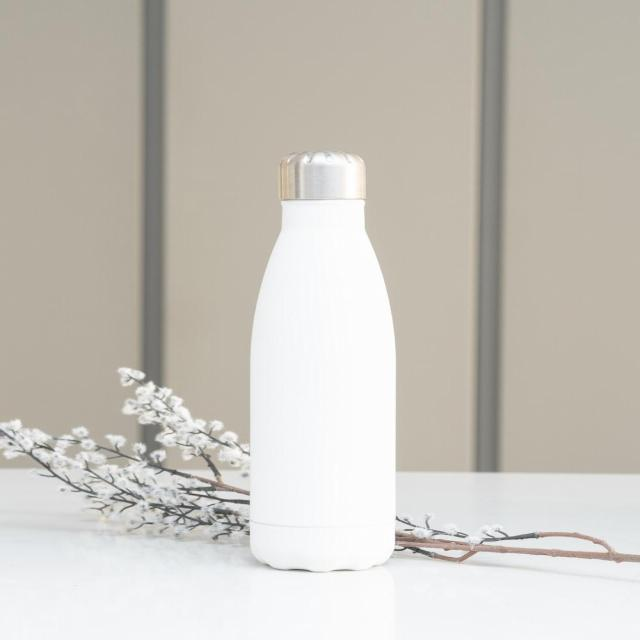bottle: (254, 129, 404, 581)
